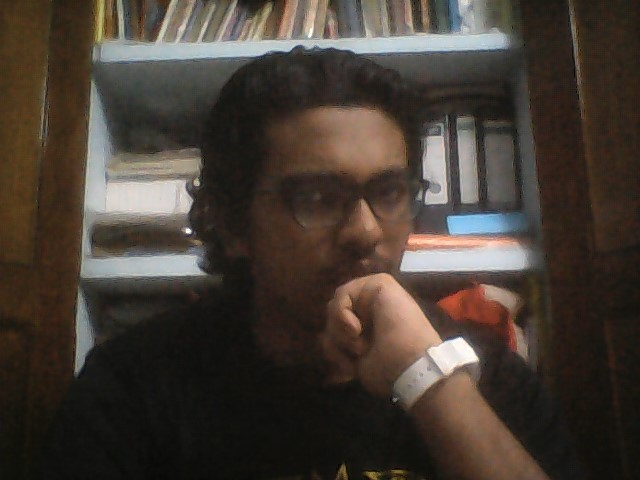person: (75, 48, 532, 468)
smartwatch: (369, 329, 490, 421)
